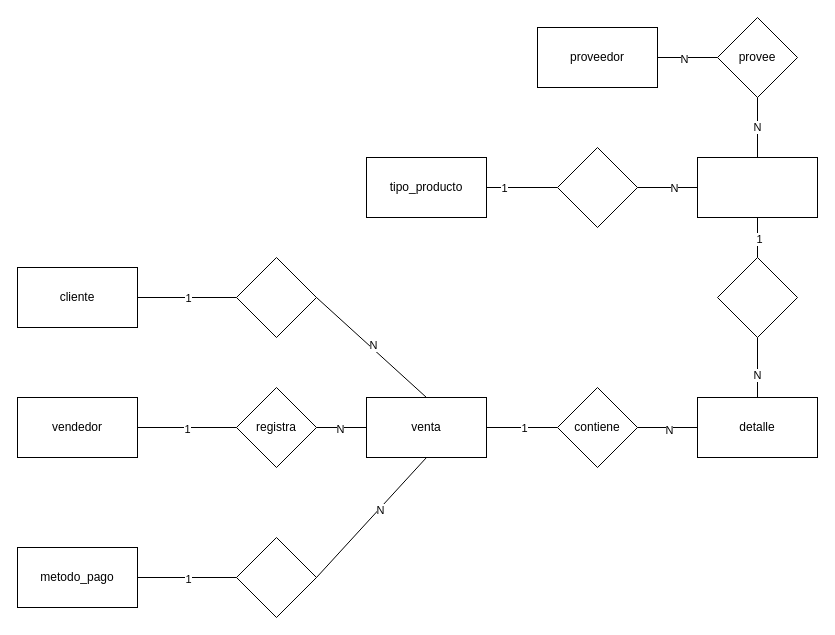
The diagram is 835 pixels wide and 635 high, and some of its shapes have lost their labels. Here are the shapes that lost their labels. From the top down, the centre of each, then its label:
[597,187]: detalla
[757,187]: producto
[276,297]: compra
[757,297]: incluye
[276,577]: pagan con
